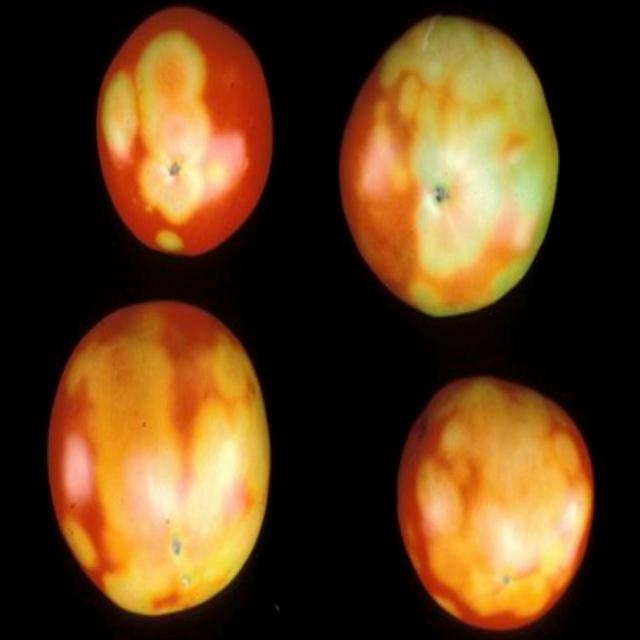Spotted wilt Virus Fruit: (32, 47, 271, 314)
